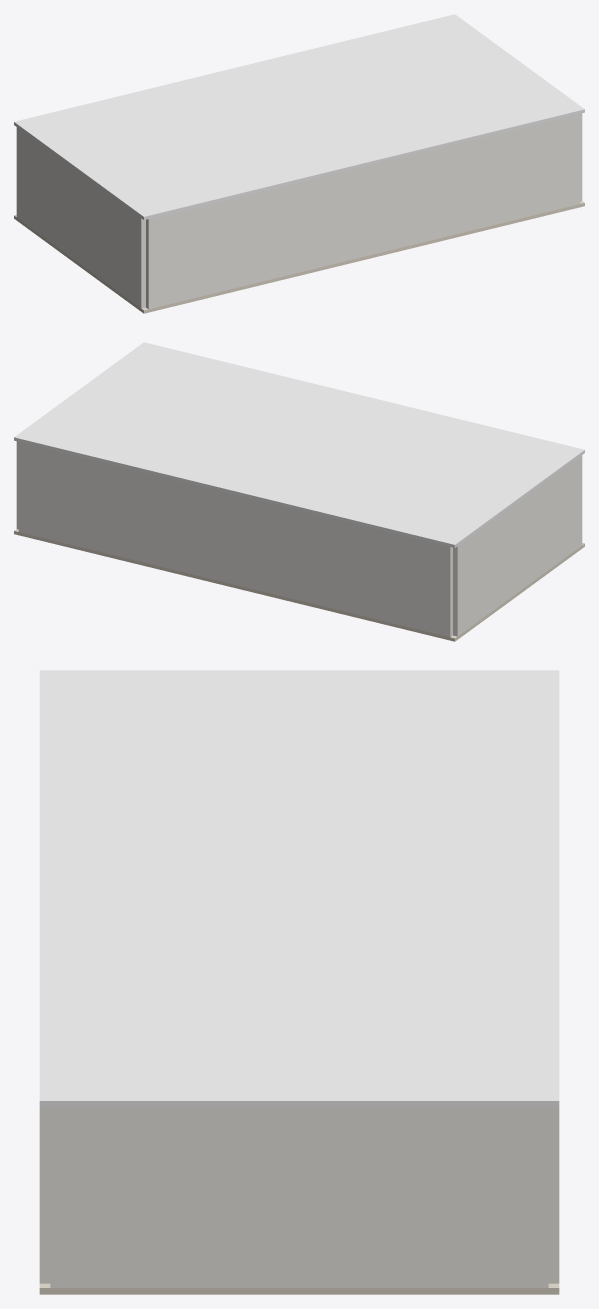
File: room.gltf
3 views of the same model, one above another, from view 1: azimuth 30°, elevation 25°; view 2: azimuth 150°, elevation 25°; view 3: azimuth 270°, elevation 25° (orthographic). The views are drawn at different scales.
Parts seen in each view (by area): view 1: ceiling, wall (×2), floor; view 2: ceiling, wall (×2), floor; view 3: ceiling, wall (×3), floor.
Part boxes in pixels (bbox=[...]): ceiling: bbox=[14, 14, 584, 219]; wall (×2): bbox=[16, 114, 580, 309]; floor: bbox=[14, 201, 584, 313]; ceiling: bbox=[14, 342, 584, 547]; wall (×2): bbox=[18, 442, 582, 637]; floor: bbox=[14, 529, 584, 641]; ceiling: bbox=[39, 670, 559, 1107]; wall (×3): bbox=[39, 1107, 559, 1287]; floor: bbox=[39, 1283, 559, 1294].
Size of the model in its own units: 14.3 by 3 by 7.3.
